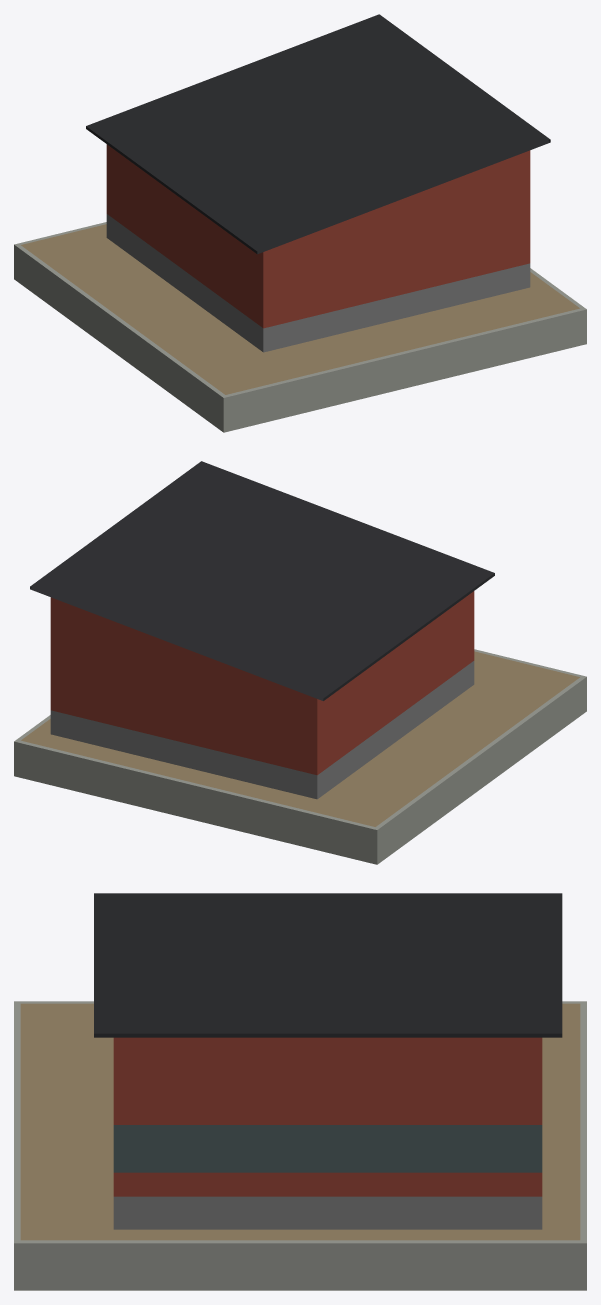
Rendered from site_hut4_far.fbx.
The picture shows the model from 3 angles, top to bottom: view 1: azimuth 30°, elevation 25°; view 2: azimuth 150°, elevation 25°; view 3: azimuth 270°, elevation 25°; orthographic projection. The views are drawn at different scales.
Visible parts, largest first — view 1: a2015.site_hut4.far; view 2: a2015.site_hut4.far; view 3: a2015.site_hut4.far.
Part boxes in pixels (x1,y1,x2,y2): a2015.site_hut4.far: (14, 14, 586, 432); a2015.site_hut4.far: (14, 461, 586, 864); a2015.site_hut4.far: (14, 893, 586, 1290).
Bounding box in the file's own units: 10.4 × 5.05 × 10.4.
